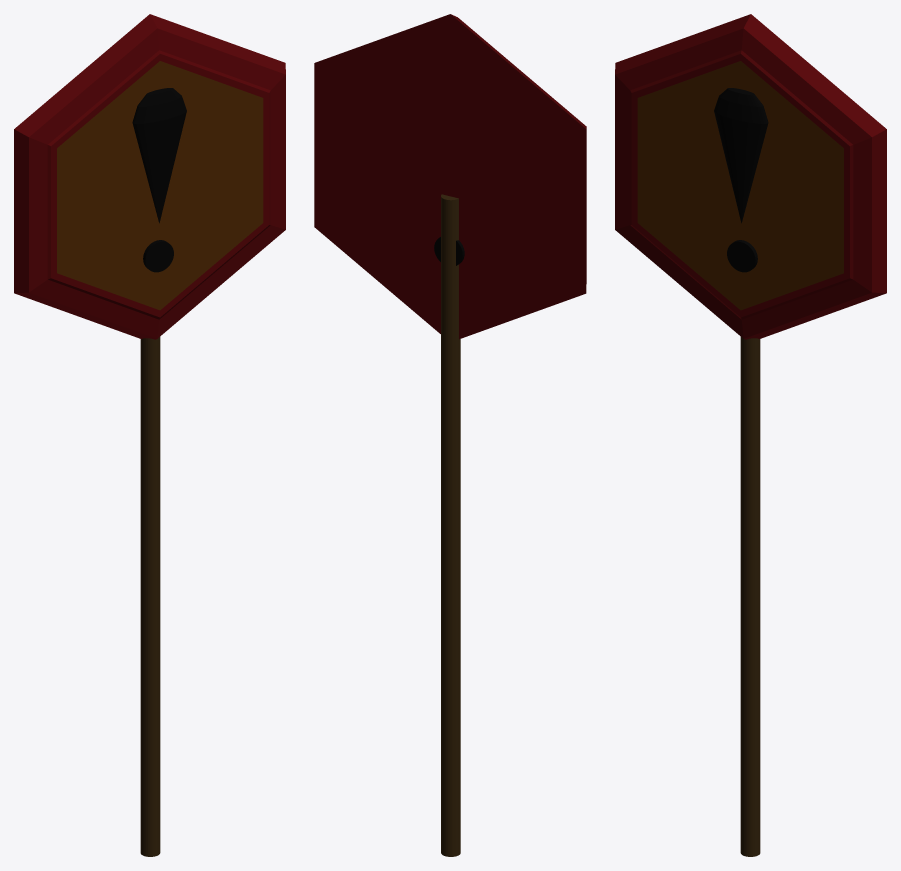
File: Znak (2).fbx
3 renders of one model, left to right at view 1: azimuth 30°, elevation 25°; view 2: azimuth 150°, elevation 25°; view 3: azimuth 330°, elevation 25°, orthographic.
Visible parts, largest first — view 1: Cylinder.003, Cylinder.001, Cylinder, Cylinder.005, Cone, Cylinder.002; view 2: Cylinder.001, Cylinder, Cylinder.005; view 3: Cylinder.003, Cylinder.001, Cylinder, Cylinder.005, Cone, Cylinder.002.
Part boxes in pixels (x1=…): Cylinder.003: x1=57, y1=61, x2=263, y2=310; Cylinder.001: x1=29, y1=28, x2=285, y2=338; Cylinder: x1=140, y1=337, x2=160, y2=856; Cylinder.005: x1=14, y1=14, x2=285, y2=339; Cone: x1=132, y1=88, x2=186, y2=223; Cylinder.002: x1=143, y1=240, x2=173, y2=272; Cylinder.001: x1=314, y1=14, x2=586, y2=339; Cylinder: x1=441, y1=194, x2=460, y2=856; Cylinder.005: x1=451, y1=14, x2=586, y2=283; Cylinder.003: x1=637, y1=61, x2=843, y2=310; Cylinder.001: x1=615, y1=28, x2=871, y2=338; Cylinder: x1=740, y1=337, x2=760, y2=856; Cylinder.005: x1=615, y1=14, x2=886, y2=339; Cone: x1=714, y1=88, x2=768, y2=223; Cylinder.002: x1=727, y1=240, x2=757, y2=272.
Bounding box in the file's own units: 173 × 511 × 20.62.
